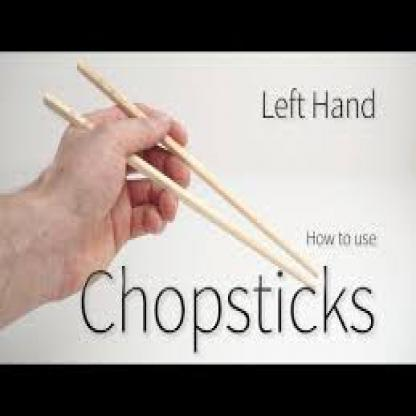chopstick: (42, 92, 316, 294), (77, 58, 318, 279)
